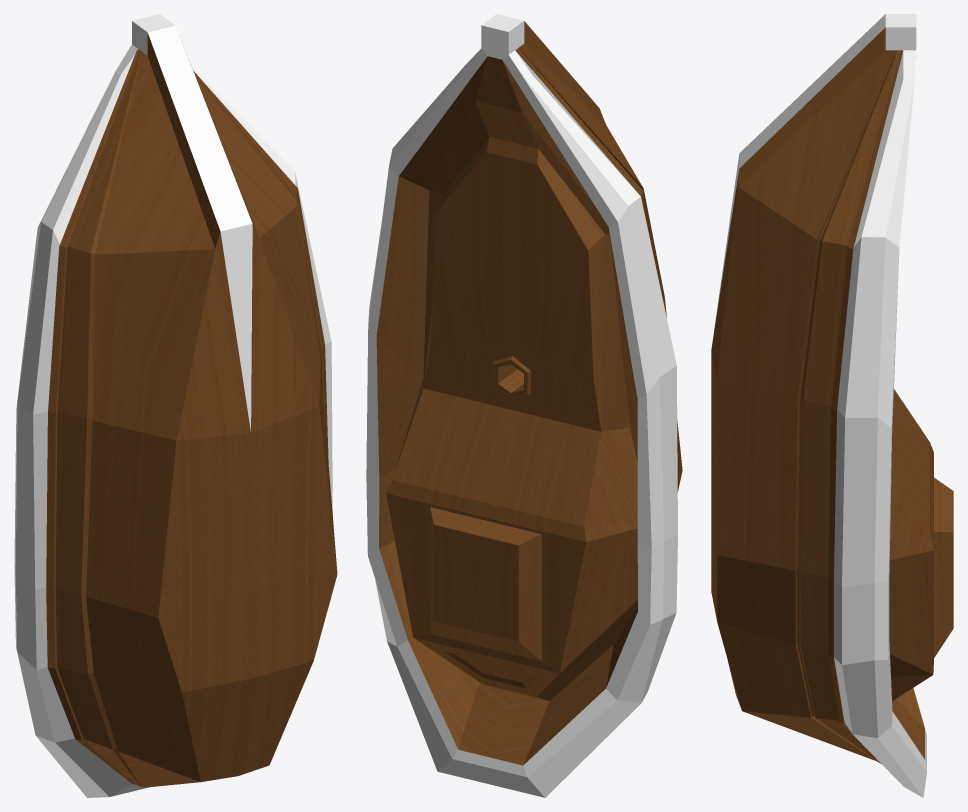
File: body_2.fbx
The picture shows the model from 3 angles, left to right: view 1: azimuth 30°, elevation 25°; view 2: azimuth 150°, elevation 25°; view 3: azimuth 270°, elevation 25°; orthographic projection. The views are drawn at different scales.
Visible parts, largest first — view 1: Cube.034; view 2: Cube.034; view 3: Cube.034.
Boxes of the visible parts, bbox=[...] form: Cube.034: bbox=[14, 14, 337, 797]; Cube.034: bbox=[366, 14, 682, 797]; Cube.034: bbox=[711, 14, 953, 797].
Size of the model in its own units: 115 by 278 by 81.4.
